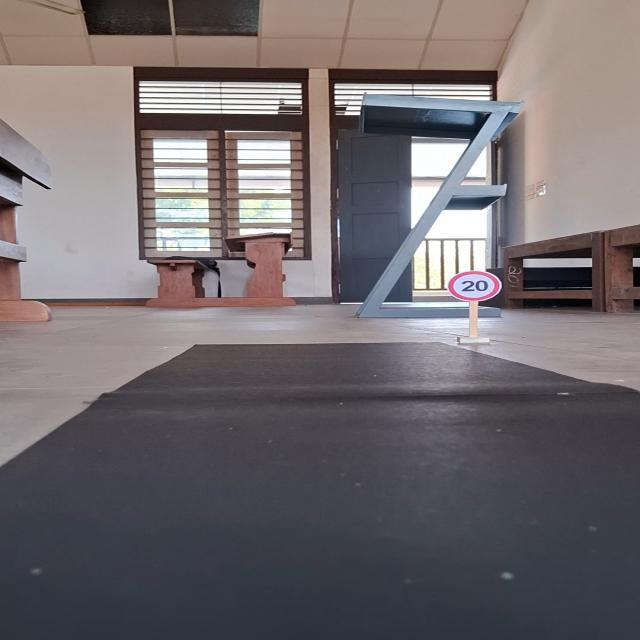Speed20: (445, 269, 504, 303)
